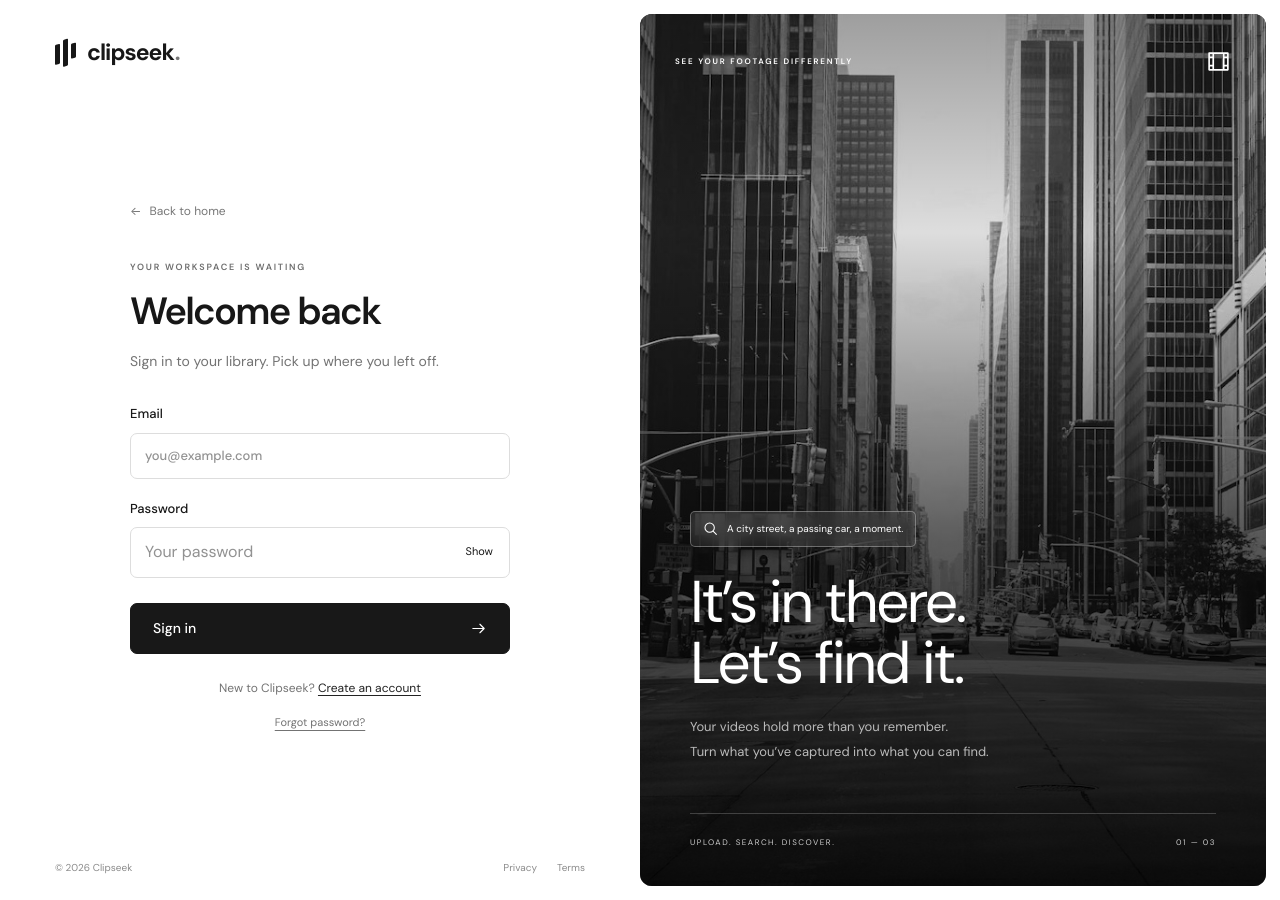
AuthPage forgot password › keeps failed login on the form and displays the server error
Type "new@example.com" into the field labelled "Email".
click(320, 456); type("new@example.com")  # box [130, 433, 510, 479]
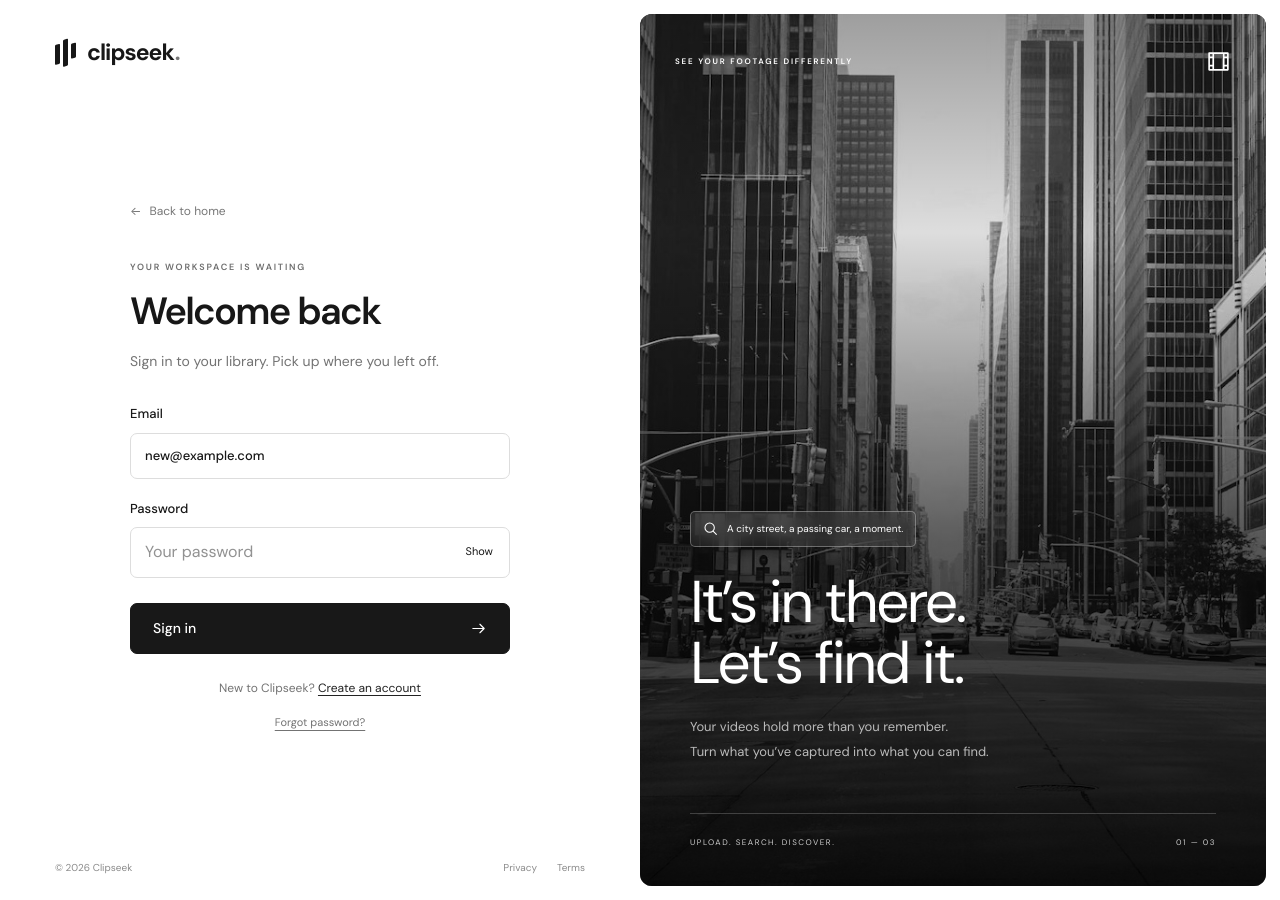
Type "wrongpassword" into the password field labelled "Password".
click(320, 552); type("wrongpassword")  # box [130, 527, 510, 578]
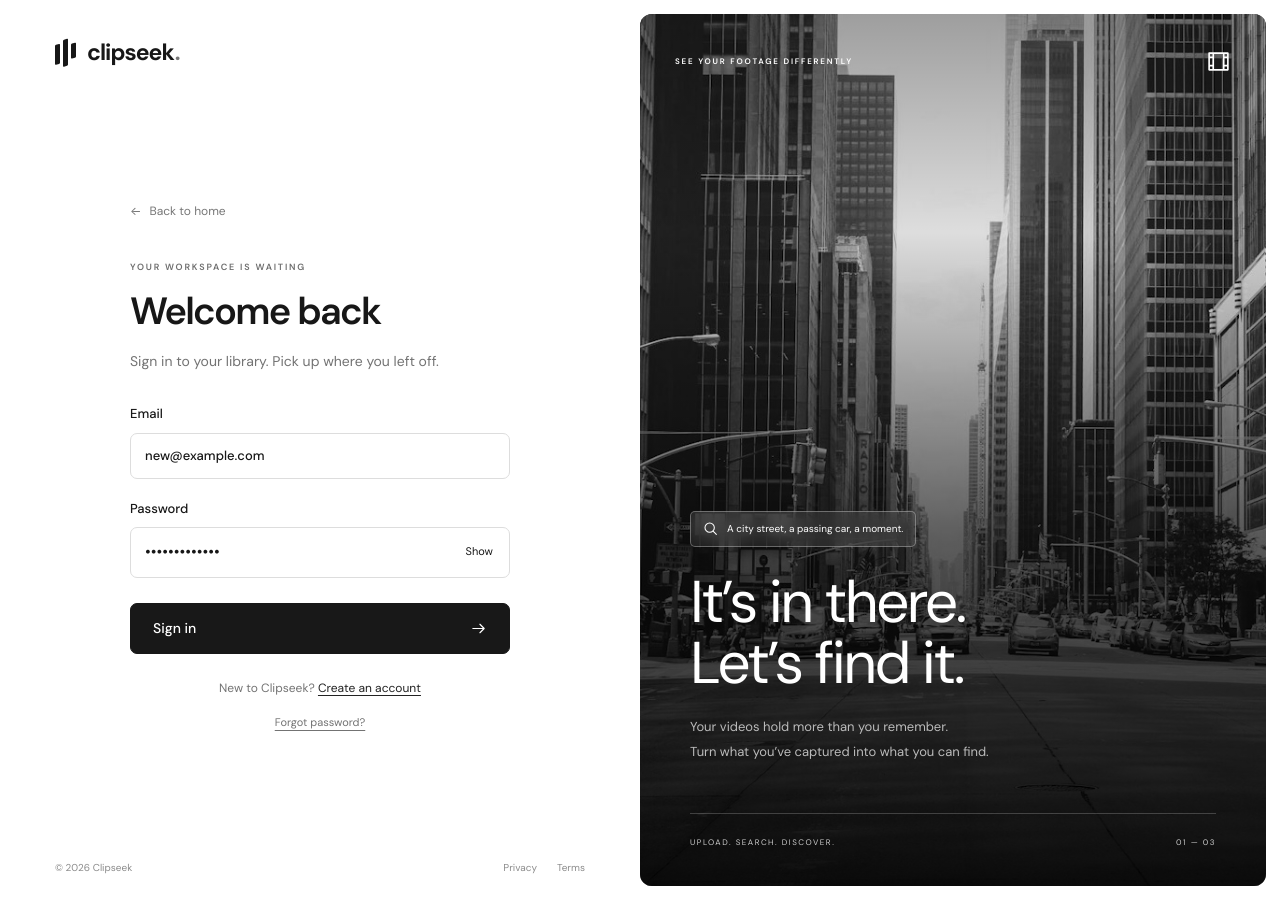
Click the button "Sign in".
click(175, 628)  # box [130, 603, 510, 654]
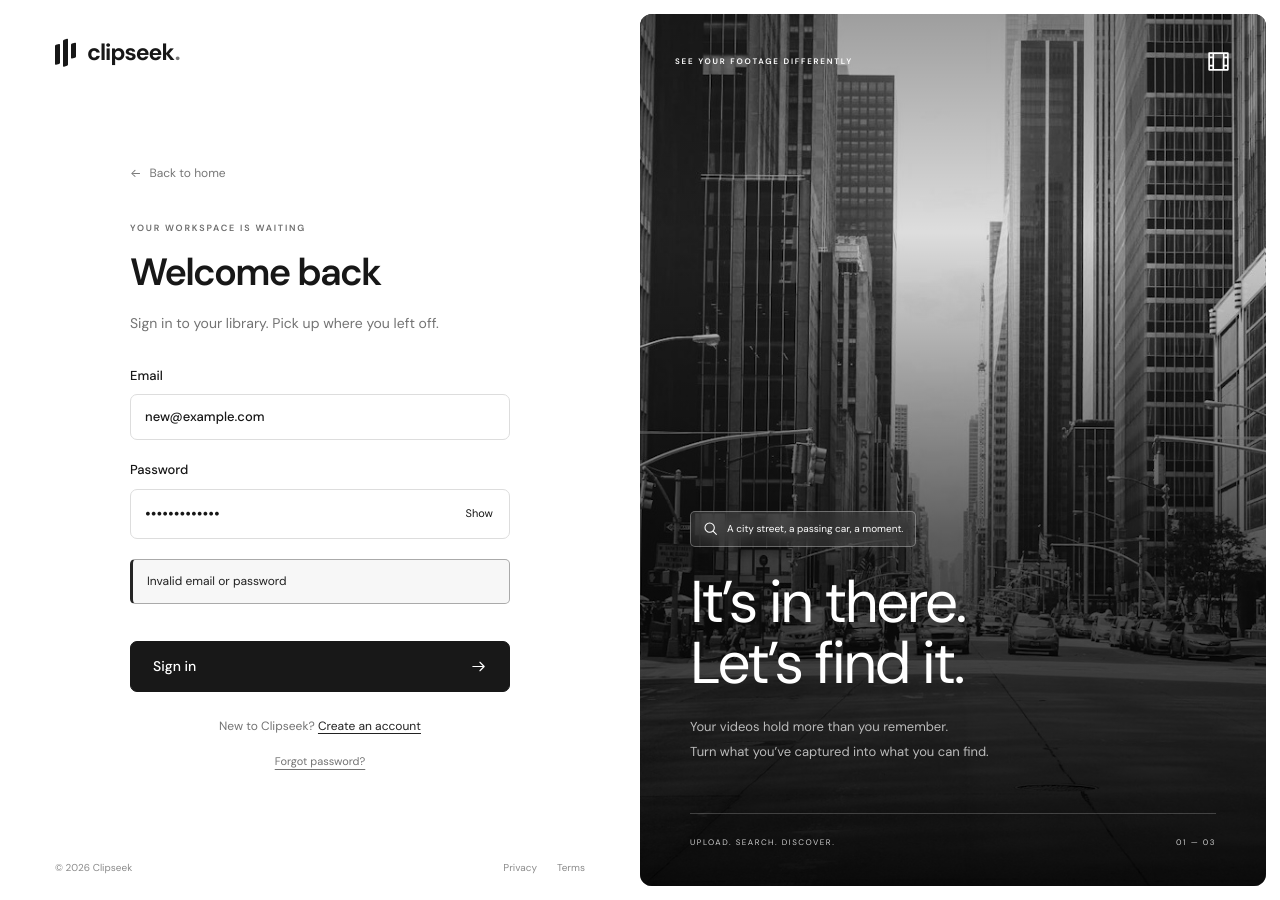
Expected: the message reads "Invalid email or password", [147, 573, 287, 589]
